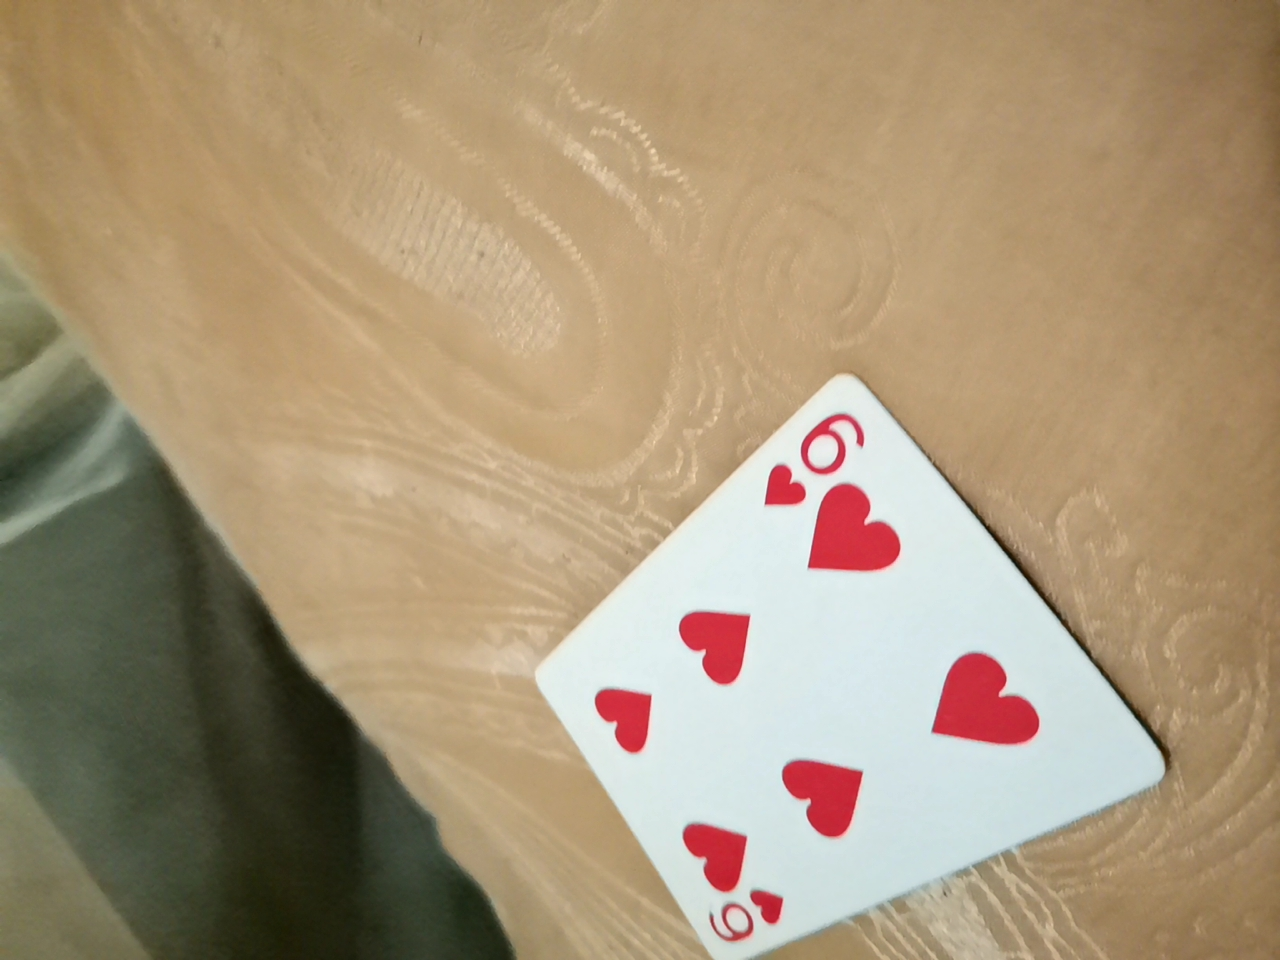hx 6: (475, 380, 1163, 955)
